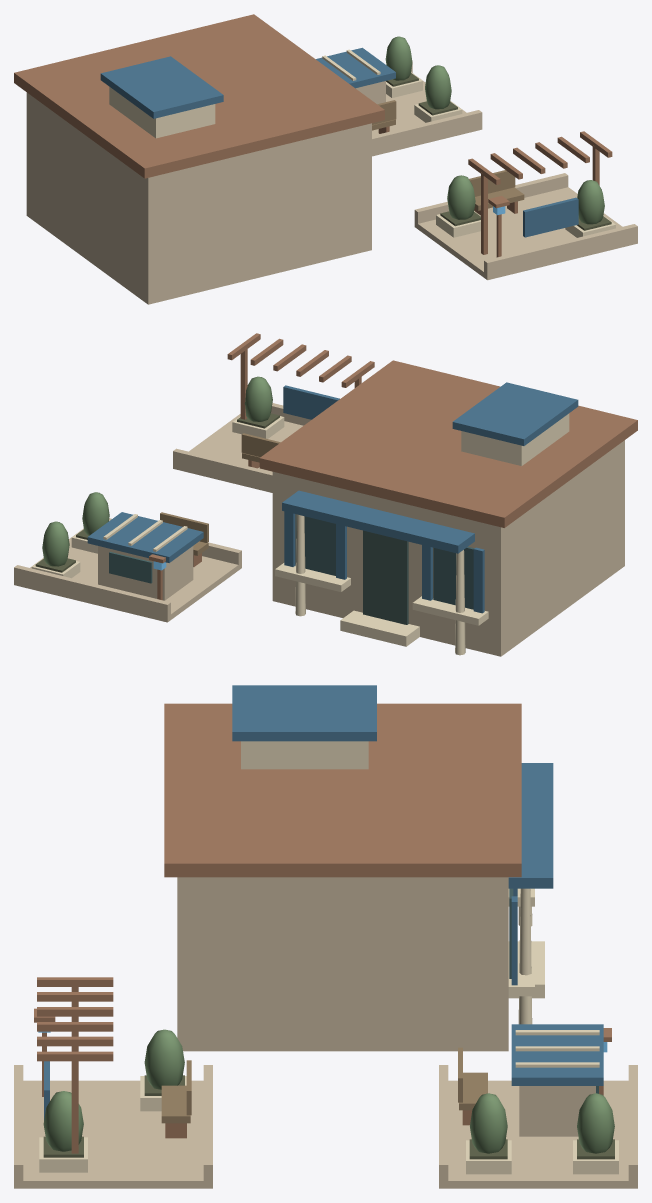
Rendered from mirage.glb.
3 views of the same model, one above another, from view 1: azimuth 30°, elevation 25°; view 2: azimuth 150°, elevation 25°; view 3: azimuth 270°, elevation 25° (orthographic). The views are drawn at different scales.
Visible parts, largest first — view 1: ARENA wall (×3), ARENA roof (×2), ARENA stone (×6), ARENA paving (×2), ARENA leaves (×4), ARENA wood (×3), ARENA metal, ARENA canopy; view 2: ARENA roof (×2), ARENA wall (×3), ARENA window (×4), ARENA canopy (×2), ARENA paving (×2), ARENA stone (×4), ARENA wood (×7), ARENA trim (×3), ARENA leaves (×3), ARENA trunk (×2), ARENA metal; view 3: ARENA wall (×3), ARENA roof (×2), ARENA paving (×2), ARENA canopy (×2), ARENA stone (×7), ARENA wood (×9), ARENA leaves (×4), ARENA trunk, ARENA trim.
Part boxes in pixels (x1,y1,x2,y2): ARENA wall (×3): [26, 81, 385, 304]; ARENA roof (×2): [14, 14, 384, 178]; ARENA stone (×6): [372, 72, 637, 275]; ARENA paving (×2): [372, 73, 637, 280]; ARENA leaves (×4): [385, 36, 604, 224]; ARENA wood (×3): [469, 170, 524, 254]; ARENA metal: [523, 197, 578, 237]; ARENA canopy: [316, 47, 395, 88]; ARENA roof (×2): [259, 360, 637, 527]; ARENA wall (×3): [98, 413, 624, 656]; ARENA window (×4): [109, 514, 474, 624]; ARENA canopy (×2): [87, 490, 474, 562]; ARENA paving (×2): [14, 414, 303, 622]; ARENA stone (×4): [14, 416, 284, 617]; ARENA wood (×7): [160, 347, 484, 613]; ARENA trim (×3): [275, 563, 488, 646]; ARENA leaves (×3): [42, 376, 272, 566]; ARENA trunk (×2): [295, 514, 465, 655]; ARENA metal: [283, 385, 339, 419]; ARENA wall (×3): [177, 741, 595, 1136]; ARENA roof (×2): [164, 685, 521, 877]; ARENA paving (×2): [14, 1080, 637, 1188]; ARENA canopy (×2): [508, 763, 603, 1085]; ARENA stone (×7): [14, 1065, 637, 1184]; ARENA wood (×9): [37, 977, 487, 1153]; ARENA leaves (×4): [43, 1029, 614, 1153]; ARENA trunk: [518, 888, 532, 1024]; ARENA trim: [508, 944, 534, 996].
Bounding box in the file's own units: 8.12 × 3.04 × 7.34.
